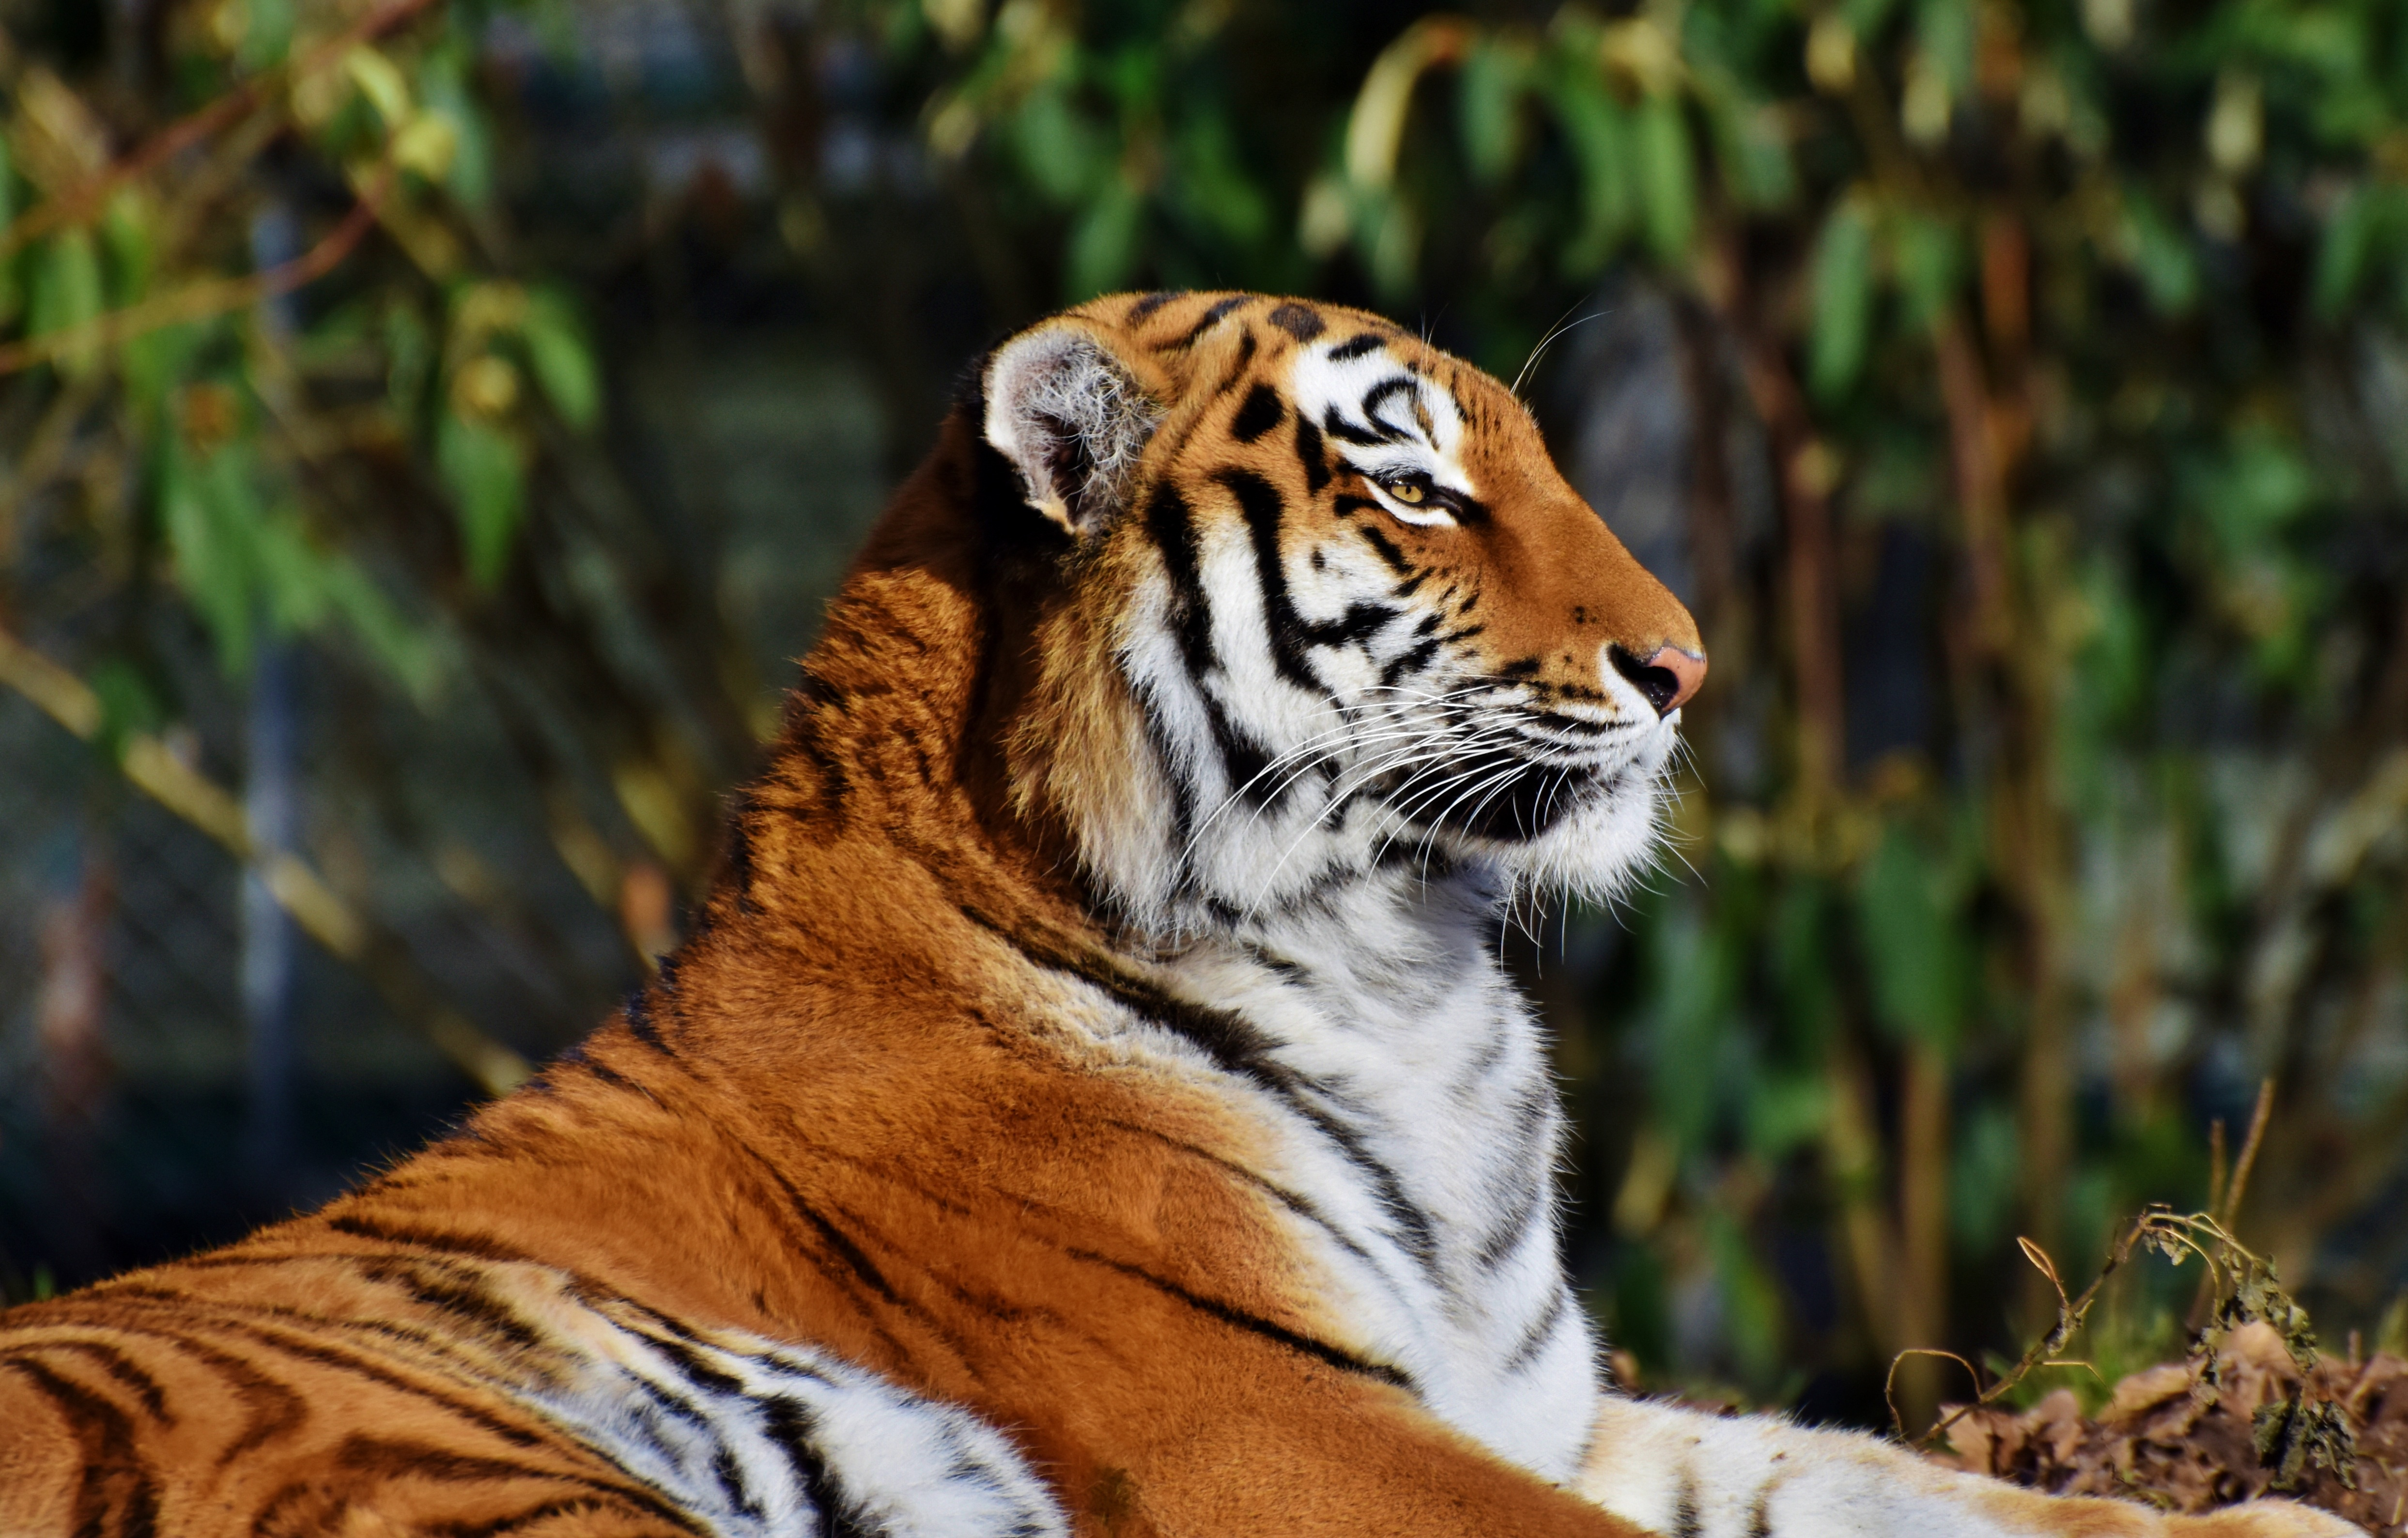tiger: (177, 325, 2053, 1524)
